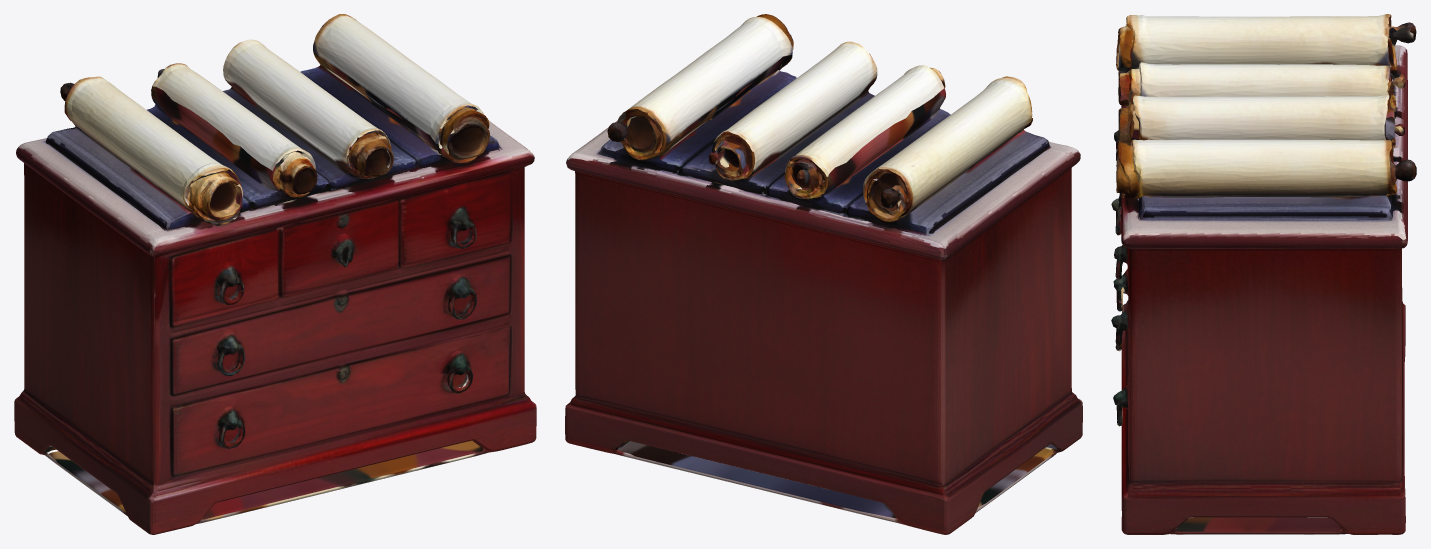
Rendered from traveler_env_coast_hida_siege_archive_cabinet_00001_.glb.
3 renders of one model, left to right at view 1: azimuth 30°, elevation 25°; view 2: azimuth 150°, elevation 25°; view 3: azimuth 270°, elevation 25°, orthographic. The views are drawn at different scales.
Parts seen in each view (by area): view 1: temp_mesh.ply; view 2: temp_mesh.ply; view 3: temp_mesh.ply.
Boxes of the visible parts, x1,y1,x2,y2 form: temp_mesh.ply: (14,14,536,534); temp_mesh.ply: (565,14,1082,534); temp_mesh.ply: (1111,14,1416,534).
Size of the model in its own units: 1.67 by 1.45 by 1.11.
1 material, 1 textured.
